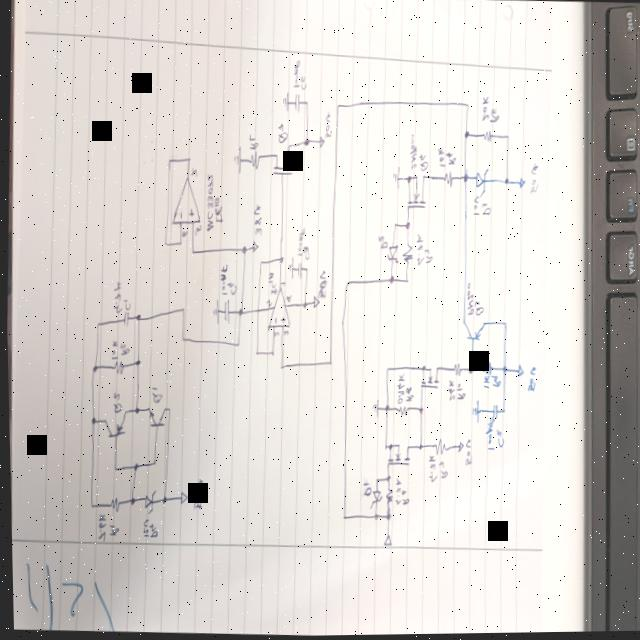capacitor: (221, 298, 230, 324), (488, 404, 497, 424), (293, 94, 301, 114), (119, 313, 130, 327), (295, 262, 301, 280)
crossover: (254, 307, 259, 315)
diode: (474, 168, 488, 197), (141, 489, 154, 515), (385, 244, 399, 266), (367, 489, 380, 510)
ground: (232, 145, 242, 175), (469, 398, 479, 425), (280, 90, 290, 112), (391, 167, 400, 189), (211, 299, 218, 325), (286, 257, 293, 281), (371, 398, 378, 418)
junction: (89, 415, 95, 427), (162, 238, 168, 250), (466, 366, 472, 378), (236, 307, 243, 317), (463, 131, 470, 141), (303, 137, 309, 148), (90, 363, 96, 374), (159, 495, 165, 506), (132, 405, 138, 415), (388, 275, 394, 285), (131, 462, 137, 472), (127, 495, 133, 505), (462, 174, 468, 184), (301, 300, 307, 310), (384, 512, 390, 522), (134, 313, 140, 323), (268, 349, 274, 359), (176, 239, 182, 249), (134, 357, 139, 368), (277, 363, 283, 372), (253, 349, 259, 358), (343, 280, 349, 289), (241, 245, 246, 255), (500, 365, 505, 375), (404, 222, 409, 232), (278, 255, 283, 265), (371, 514, 377, 522), (503, 179, 509, 187), (416, 407, 421, 416), (505, 134, 510, 142), (189, 248, 194, 256), (340, 514, 345, 522), (465, 103, 470, 111), (384, 475, 389, 483), (186, 154, 191, 162), (384, 405, 388, 414), (403, 278, 408, 285), (304, 100, 308, 108), (111, 464, 115, 472), (151, 459, 155, 467), (416, 443, 420, 451), (336, 103, 340, 111), (180, 305, 184, 313), (384, 367, 388, 375), (95, 321, 99, 329), (502, 321, 506, 329), (327, 359, 331, 367), (88, 502, 92, 510), (180, 335, 184, 343), (392, 221, 396, 229), (234, 341, 238, 349), (165, 406, 169, 414), (258, 259, 262, 267), (500, 408, 504, 416), (167, 157, 171, 165), (419, 366, 424, 372), (386, 443, 390, 450), (383, 444, 386, 452), (304, 266, 307, 273), (408, 176, 410, 183)
resistor: (432, 438, 446, 458), (399, 246, 413, 266), (248, 150, 260, 170), (440, 172, 455, 187), (105, 496, 120, 511), (111, 361, 125, 375), (481, 129, 494, 144), (395, 405, 409, 418), (382, 489, 391, 505), (451, 363, 460, 379), (480, 363, 490, 377)
source: (513, 363, 524, 380), (177, 489, 186, 507), (517, 176, 526, 192), (310, 294, 319, 310), (317, 135, 325, 151), (250, 240, 258, 254), (456, 441, 462, 455)
terminal: (381, 535, 389, 548)
text: (204, 173, 215, 233), (252, 202, 263, 238), (483, 416, 494, 452), (191, 477, 202, 512), (93, 512, 105, 544), (408, 135, 418, 173), (528, 163, 539, 197), (111, 281, 122, 315), (464, 283, 474, 318), (425, 454, 436, 484), (218, 263, 228, 296), (414, 234, 424, 266), (316, 270, 326, 302), (295, 228, 306, 257), (395, 373, 404, 407), (110, 390, 122, 415), (292, 59, 302, 89), (212, 195, 222, 224), (323, 113, 333, 141), (480, 96, 490, 124), (266, 270, 276, 296), (277, 122, 288, 145), (526, 366, 535, 394), (149, 385, 162, 404), (445, 379, 455, 403), (463, 438, 471, 468), (436, 461, 447, 482), (418, 152, 429, 172), (436, 147, 446, 169), (399, 486, 409, 508), (493, 429, 504, 449), (247, 133, 259, 151), (106, 521, 118, 539), (474, 298, 484, 319), (109, 339, 118, 362), (421, 249, 433, 266), (402, 387, 413, 405), (471, 196, 480, 218), (224, 281, 237, 296), (393, 476, 399, 508), (488, 109, 500, 125), (146, 522, 157, 539), (454, 383, 464, 401), (359, 481, 369, 499), (444, 152, 456, 167), (377, 233, 386, 251), (490, 376, 500, 390), (482, 202, 492, 216), (140, 517, 146, 539), (299, 74, 307, 90), (480, 376, 489, 390), (119, 343, 129, 355), (302, 245, 309, 262), (122, 298, 130, 312), (193, 225, 201, 235), (189, 168, 197, 178), (181, 227, 187, 239), (284, 293, 290, 303), (265, 298, 271, 308), (278, 280, 285, 287), (272, 330, 278, 338), (282, 329, 288, 337)
transistor: (405, 174, 427, 210), (101, 408, 126, 439), (384, 442, 409, 468), (462, 316, 485, 343), (418, 364, 439, 393), (272, 149, 293, 177), (146, 403, 165, 429)
